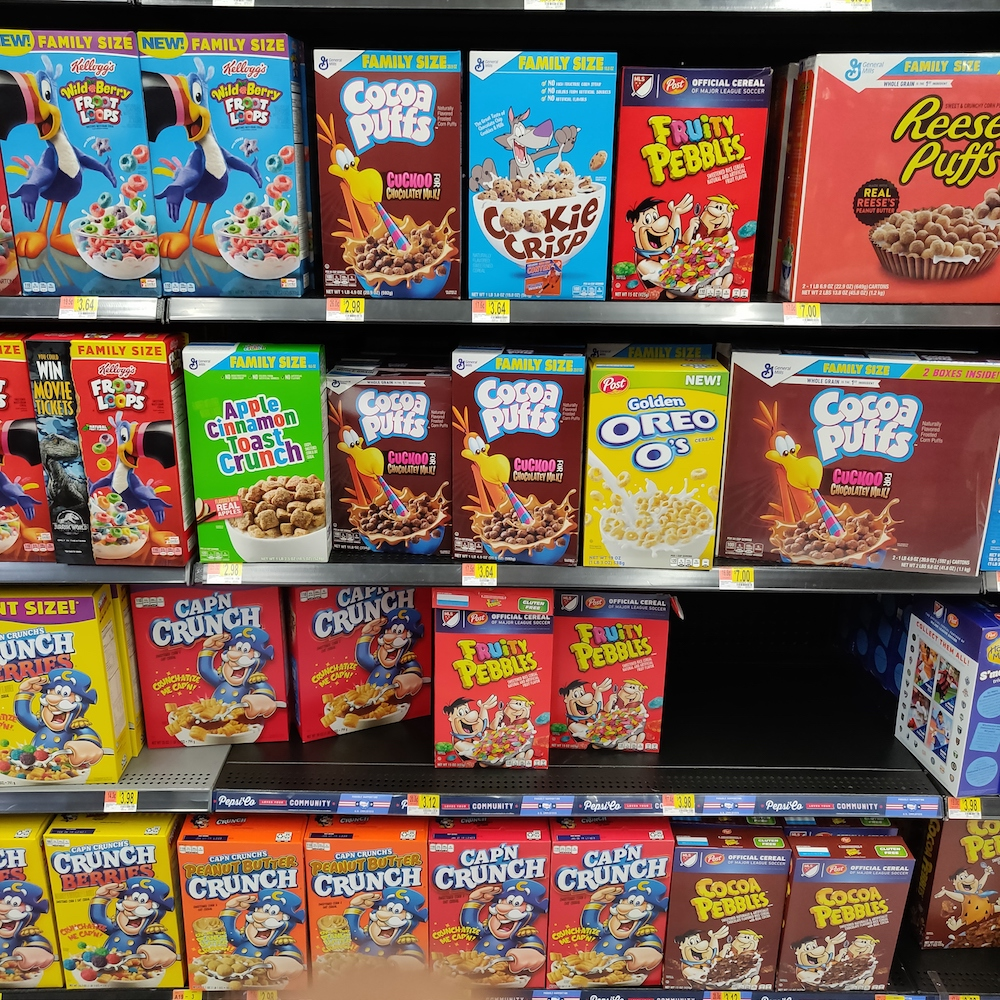Cocoa Pebbles-555517893: (791, 843, 902, 990), (670, 847, 783, 985)
Oreo Golden-568301011: (591, 372, 732, 565)
